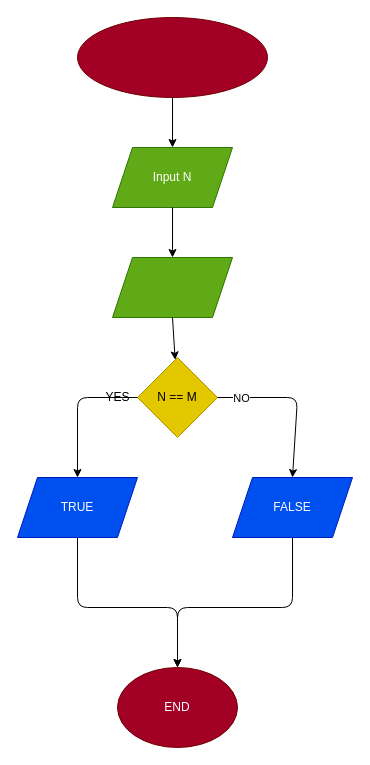
The diagram is 370 pixels wide and 765 high, and some of its shapes have lost their labels. Here are the shapes that lost their labels. From the top down, the centre of each, then its label:
At point 172,57: "START".
At point 172,287: "Input M".
